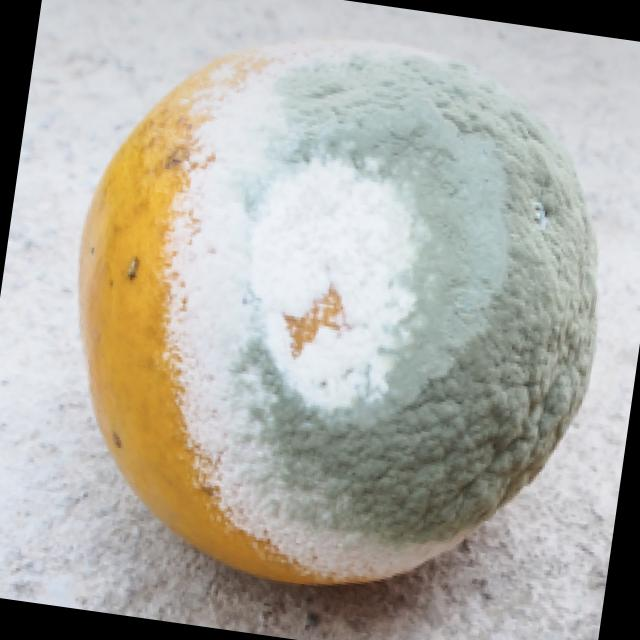rotten-orange: (36, 9, 632, 626)
